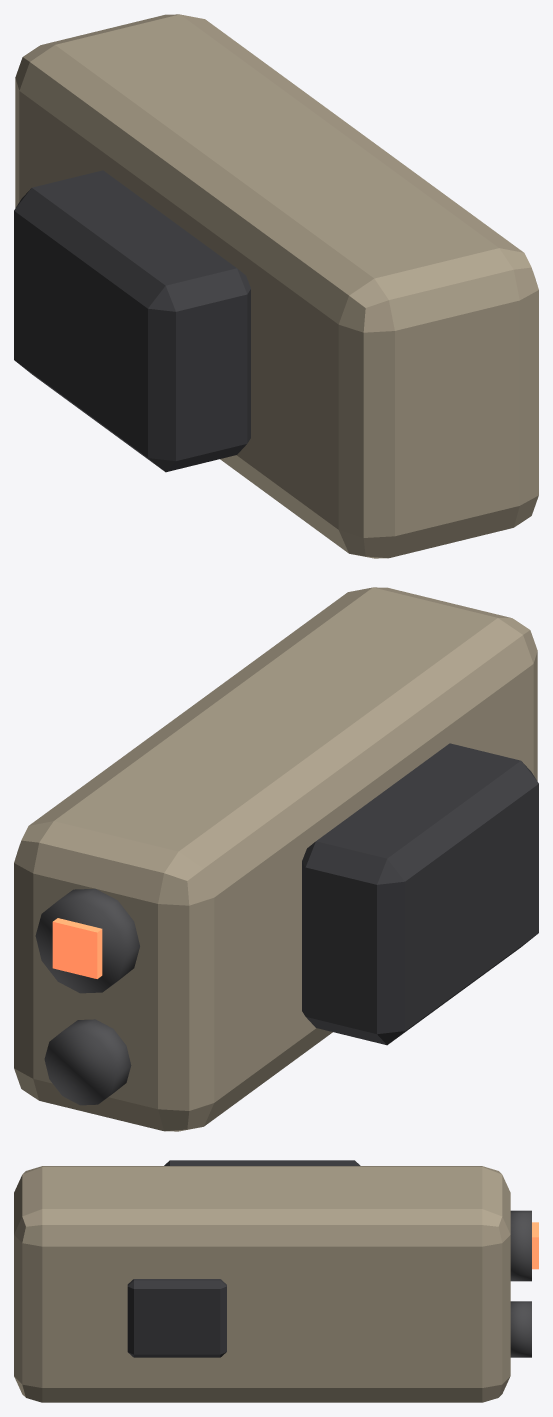
File: part_laser.glb
3 renders of one model, top to bottom at view 1: azimuth 30°, elevation 25°; view 2: azimuth 150°, elevation 25°; view 3: azimuth 270°, elevation 25°, orthographic. The views are drawn at different scales.
Visible parts, largest first — view 1: Laser; view 2: Laser; view 3: Laser.
Boxes of the visible parts, x1,y1,x2,y2 form: Laser: (14,14,538,558); Laser: (14,587,538,1131); Laser: (14,1160,538,1402).
Bounding box in the file's own units: 0.0345 × 0.03 × 0.074.
